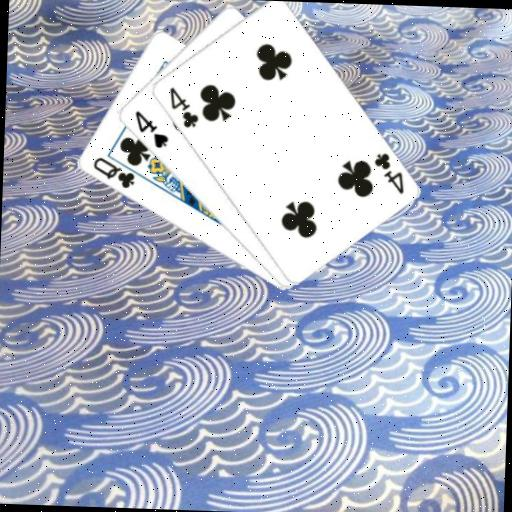4C: (369, 149, 407, 196), (164, 83, 201, 130)
4S: (130, 107, 170, 150)
QC: (89, 153, 137, 190)
